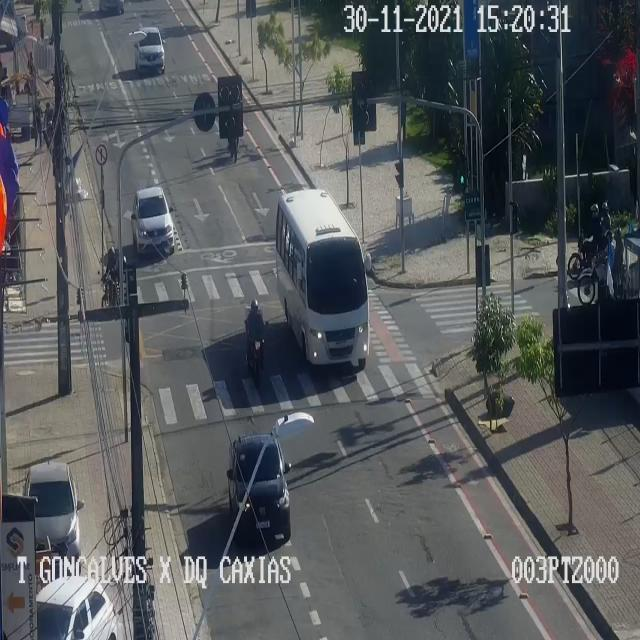Car: (277, 191, 365, 369), (229, 436, 291, 544), (22, 463, 78, 558), (36, 575, 114, 639), (132, 188, 176, 258), (136, 23, 163, 73), (96, 0, 132, 20)
Motorcycle: (579, 228, 629, 300), (569, 200, 611, 277), (246, 302, 266, 387), (103, 247, 121, 307), (223, 114, 241, 170)
